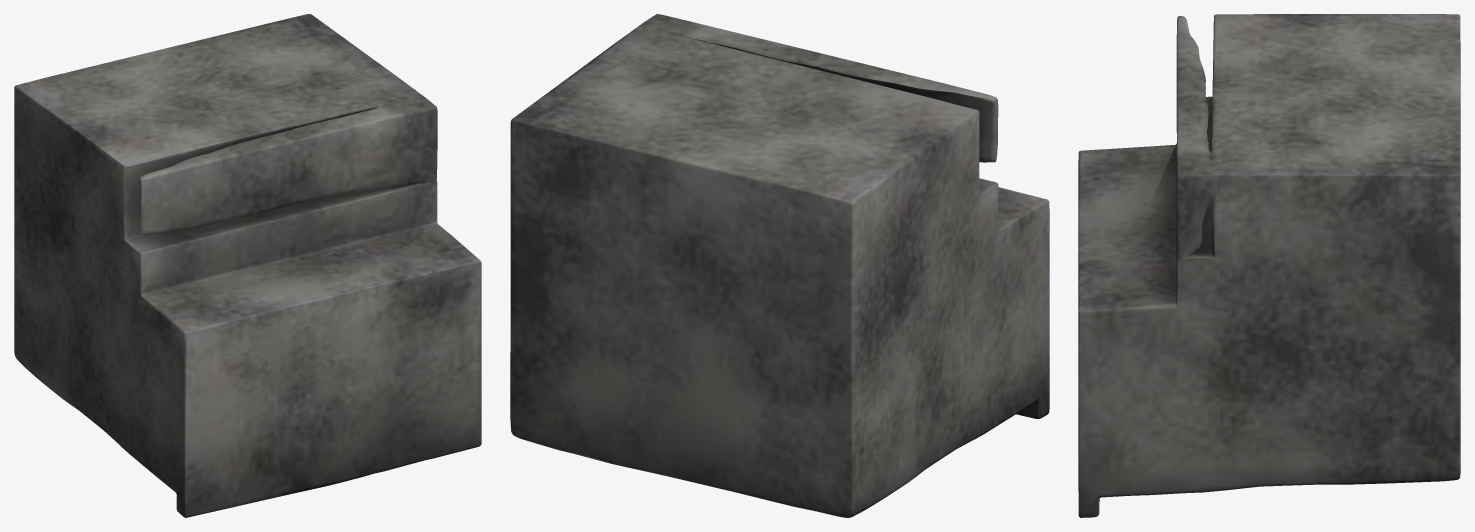
File: worn-granite-straight-staircase-v001.glb
The picture shows the model from 3 angles, left to right: view 1: azimuth 30°, elevation 25°; view 2: azimuth 150°, elevation 25°; view 3: azimuth 270°, elevation 25°; orthographic projection. The views are drawn at different scales.
Visible parts, largest first — view 1: worn-granite-straight-staircase; view 2: worn-granite-straight-staircase; view 3: worn-granite-straight-staircase.
Part boxes in pixels (x1,y1,x2,y2): worn-granite-straight-staircase: (14,14,481,517); worn-granite-straight-staircase: (510,14,1049,517); worn-granite-straight-staircase: (1078,14,1460,517).
Bounding box in the file's own units: 1.24 × 1.24 × 1.24.
1 material, 1 textured.
